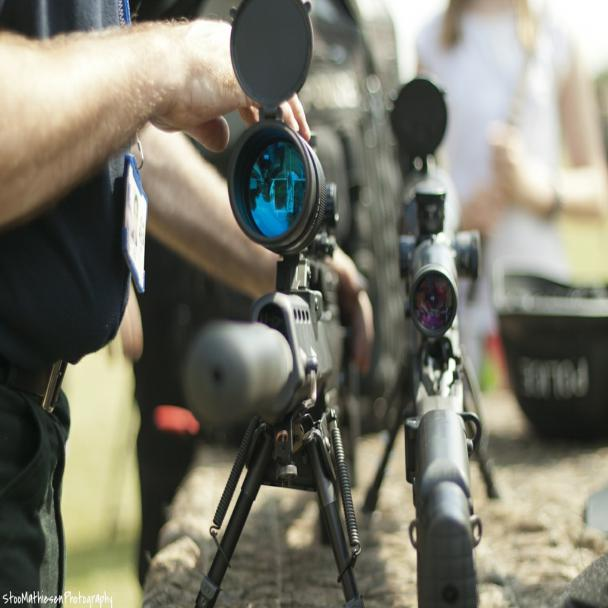Gun: (198, 109, 383, 608), (384, 99, 494, 607)
Hand: (131, 3, 315, 146)
